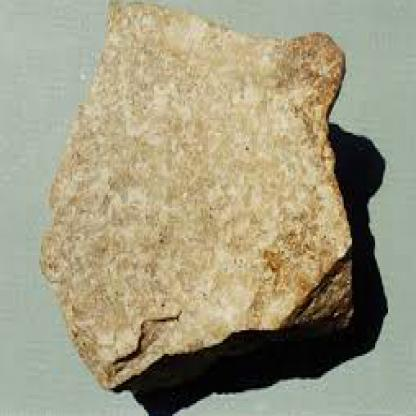Metamorphic_Quartize: (35, 7, 364, 388)
